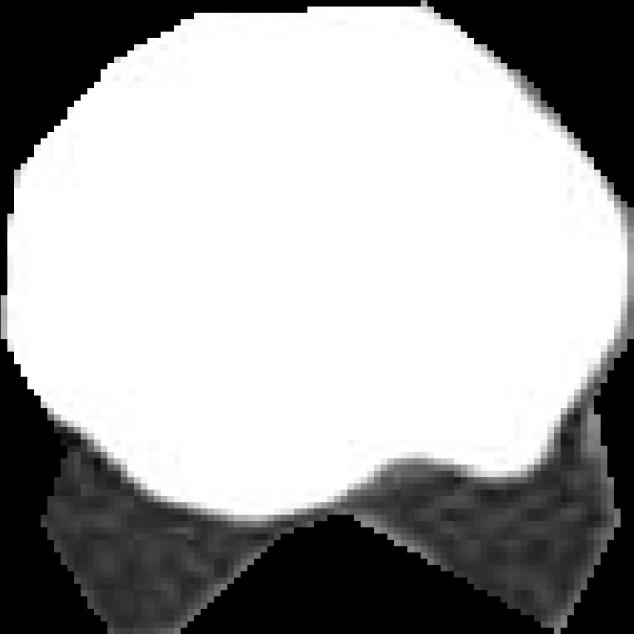tumor_moderate_chance: (1, 0, 634, 634)
